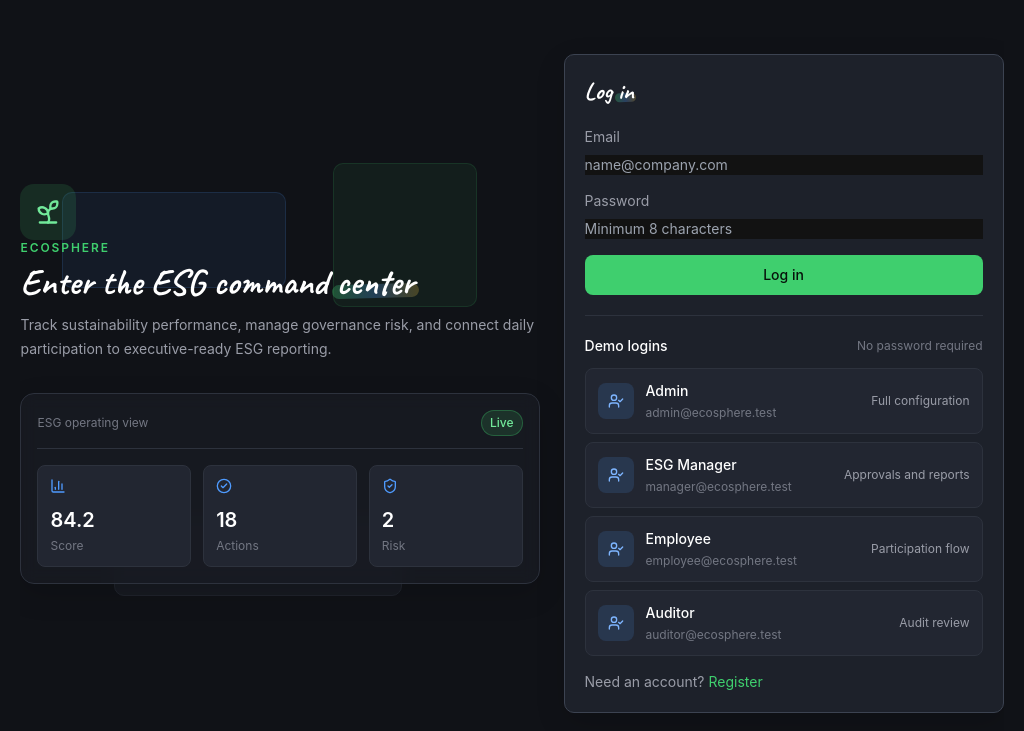
Test case: App › routes demo login selections to the dashboard
The width and height of the screenshot is (1024, 731).
Click the button "Admin admin@ecosphere.test Full configuration".
click(616, 401)  # box left=584, top=368, right=982, bottom=434
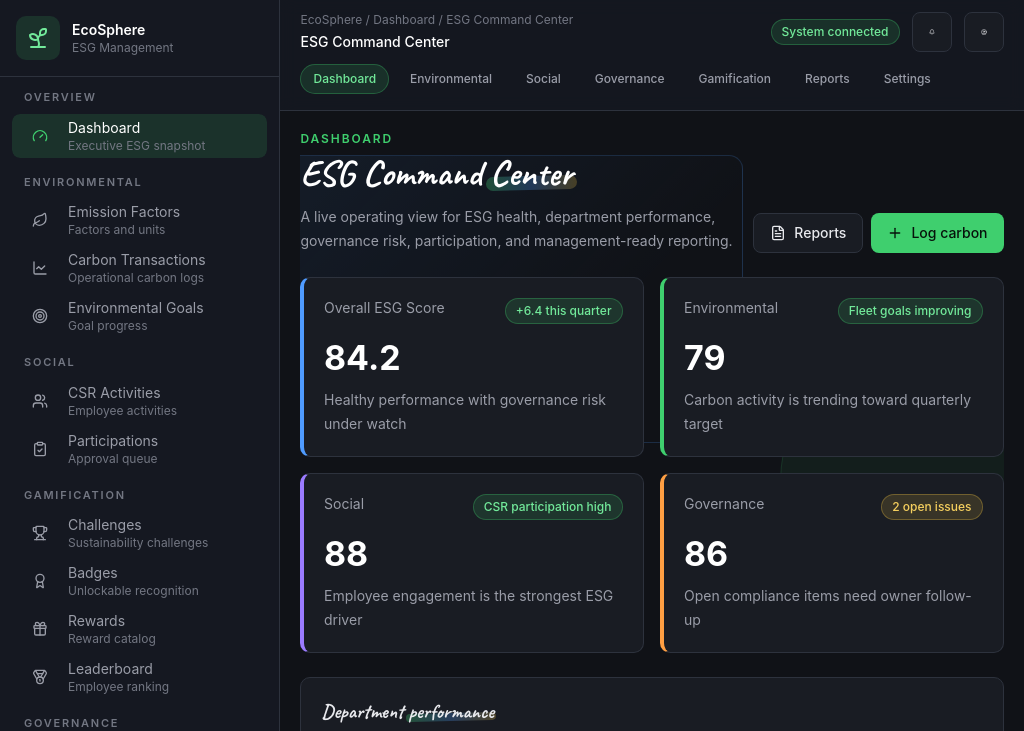
Result: the heading "ESG Command Center" is shown at left=300, top=152, right=573, bottom=196
